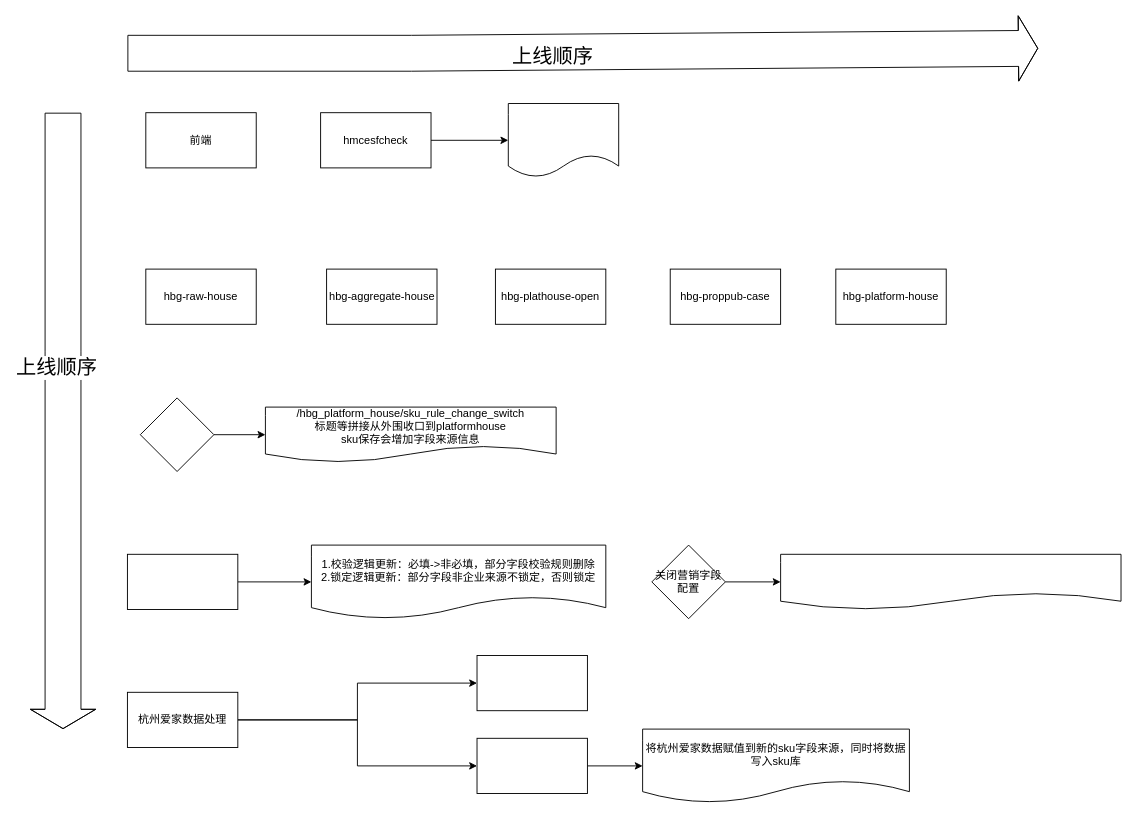
Some shapes in this 1137 by 820 pixel diagram are drawn without their labels. The centre of each missing label's shape, as x and y in pixels:
"/hbg_property_params/enterprise_sku_marketing_switch" goes at (x=950, y=581).
"1.关闭新数据写入" goes at (x=531, y=683).
"2.历史数据处理" goes at (x=531, y=765).
"hbg-property-params" goes at (x=182, y=581).
"启用新Sku保存开关" goes at (x=176, y=434).
"首付参数校验[-]" goes at (x=563, y=140).
